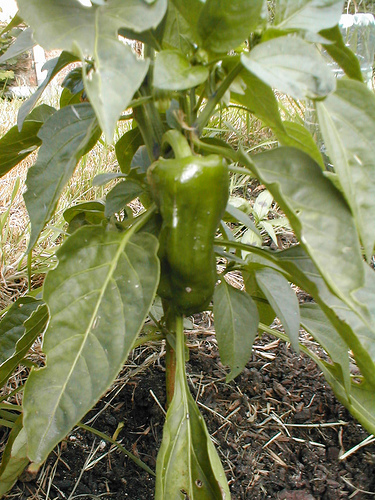capsicum: (147, 127, 230, 286)
